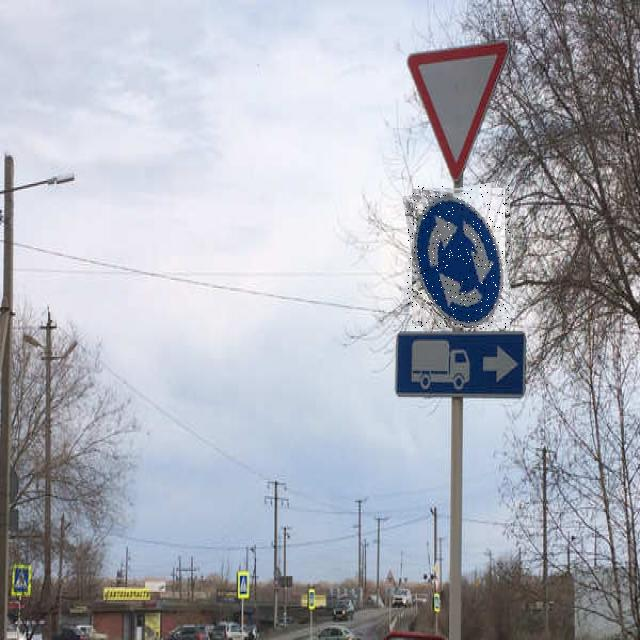roundabout: (407, 185, 510, 328)
